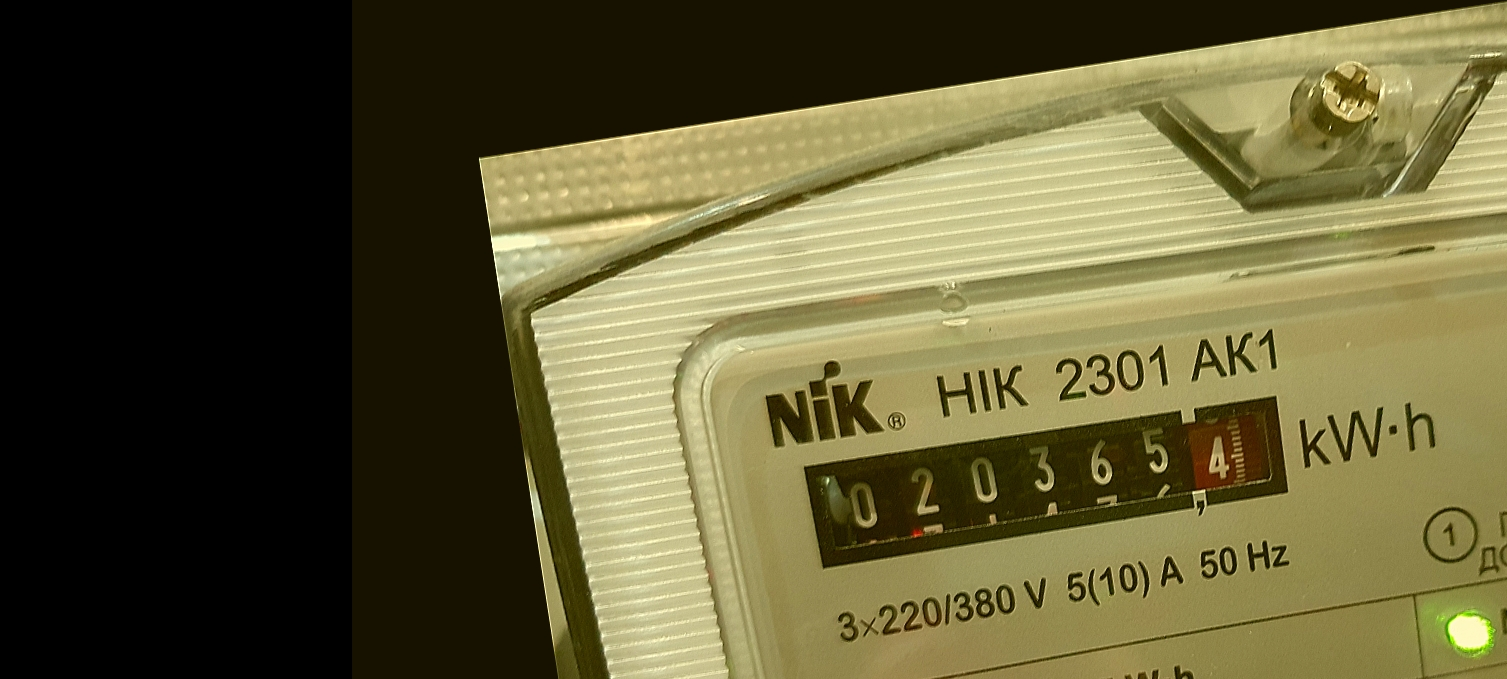0: (844, 474, 885, 533), (967, 452, 1004, 506)
2: (906, 462, 944, 517)
3: (1026, 442, 1061, 495)
4: (1202, 430, 1232, 481)
5: (1141, 425, 1174, 475)
6: (1084, 433, 1117, 487)
screen: (788, 374, 1311, 586)
